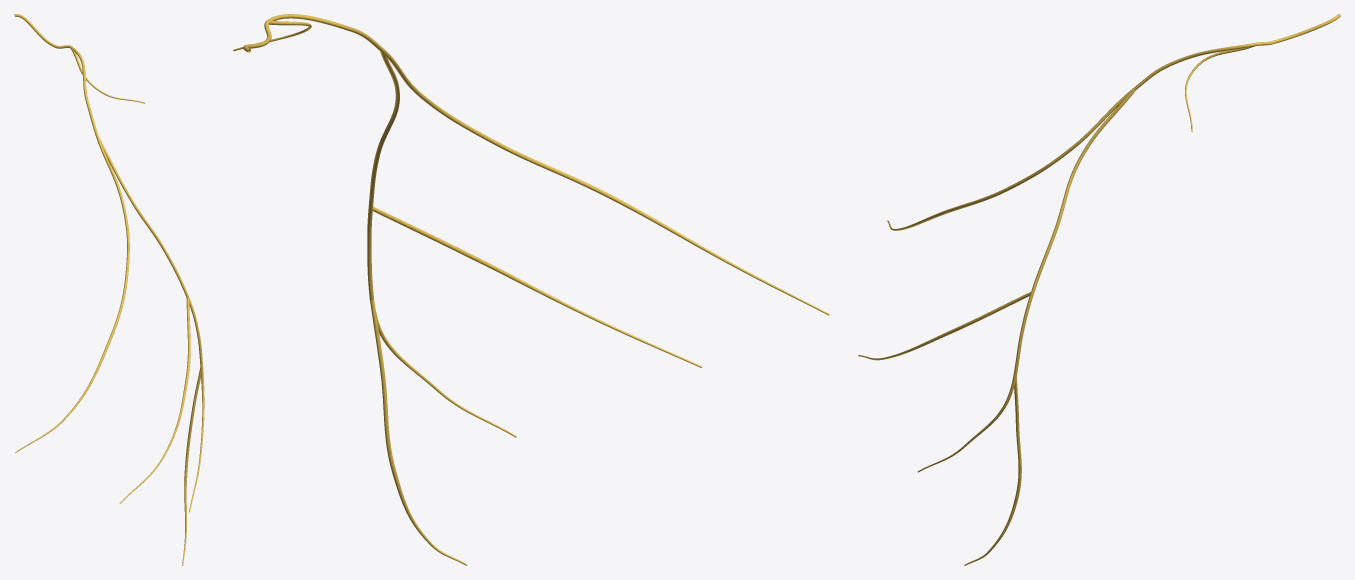
Rendered from Lateral_pectoral_nerve_left.glb.
3 renders of one model, left to right at view 1: azimuth 30°, elevation 25°; view 2: azimuth 150°, elevation 25°; view 3: azimuth 270°, elevation 25°, orthographic. The views are drawn at different scales.
Visible parts, largest first — view 1: Lateral_pectoral_nerve.l_BezierCurve.516; view 2: Lateral_pectoral_nerve.l_BezierCurve.516; view 3: Lateral_pectoral_nerve.l_BezierCurve.516.
Part boxes in pixels (<box>): Lateral_pectoral_nerve.l_BezierCurve.516: <box>14,14,204,565</box>; Lateral_pectoral_nerve.l_BezierCurve.516: <box>233,14,829,565</box>; Lateral_pectoral_nerve.l_BezierCurve.516: <box>858,14,1340,565</box>.
Bounding box in the file's own units: 0.1038 × 0.173 × 0.1394.
